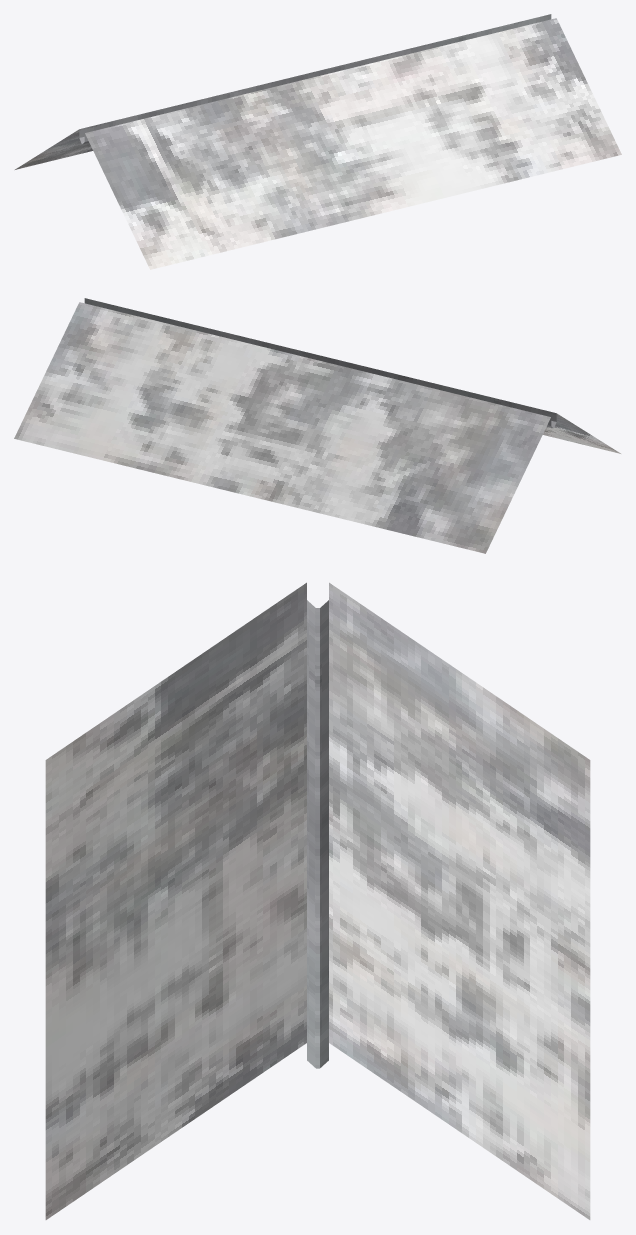
Rendered from Factory_Roof_Tip.glb.
3 renders of one model, top to bottom at view 1: azimuth 30°, elevation 25°; view 2: azimuth 150°, elevation 25°; view 3: azimuth 270°, elevation 25°, orthographic. The views are drawn at different scales.
Parts seen in each view (by area): view 1: Factory_Roof_Tip; view 2: Factory_Roof_Tip; view 3: Factory_Roof_Tip.
Boxes of the visible parts, x1=… form: Factory_Roof_Tip: x1=15, y1=14, x2=621, y2=269; Factory_Roof_Tip: x1=14, y1=298, x2=620, y2=553; Factory_Roof_Tip: x1=45, y1=582, x2=590, y2=1219.
Bounding box in the file's own units: 4 × 0.72 × 2.
Materials: 2 (2 with a texture image).
